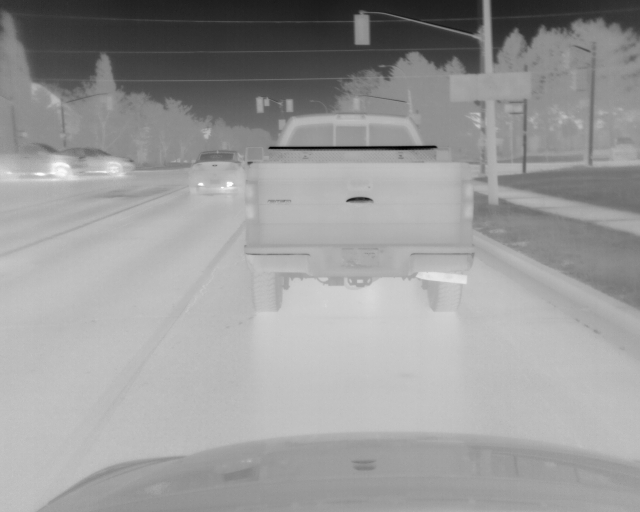car: (242, 110, 474, 312), (2, 143, 84, 181), (187, 151, 248, 197), (64, 147, 134, 178)
